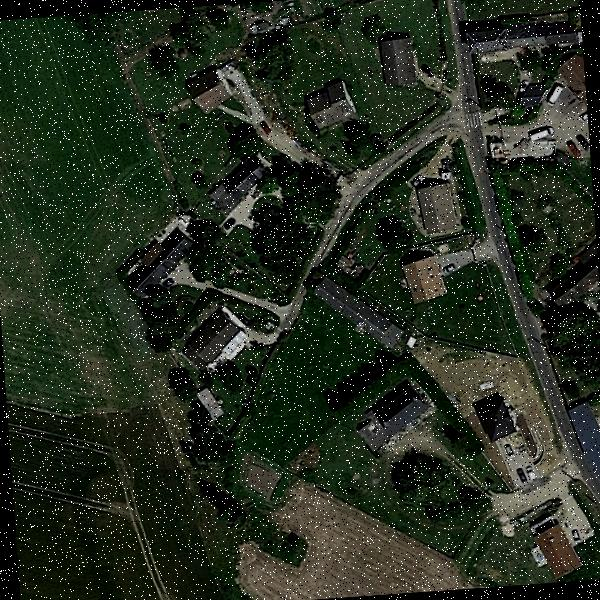Buildings: (464, 18, 576, 60), (524, 518, 590, 578), (371, 380, 429, 436), (204, 160, 262, 215), (130, 230, 186, 284), (295, 84, 354, 130), (189, 314, 240, 366), (412, 183, 465, 230), (402, 256, 448, 306), (560, 46, 588, 118), (378, 36, 419, 82), (476, 394, 514, 436), (189, 74, 225, 110)
